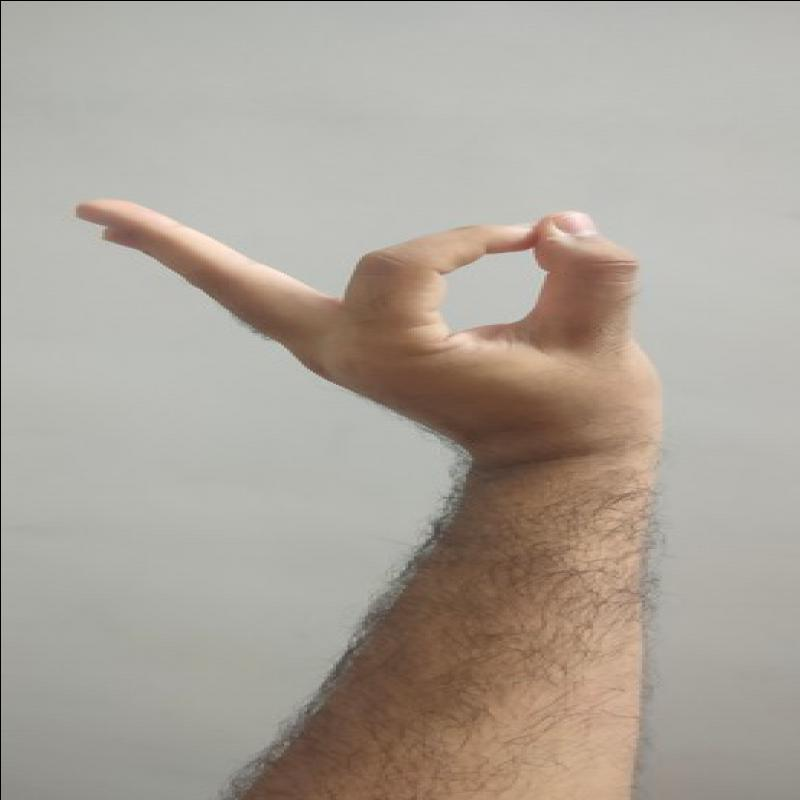Mudraakhyam: (50, 180, 695, 479)
